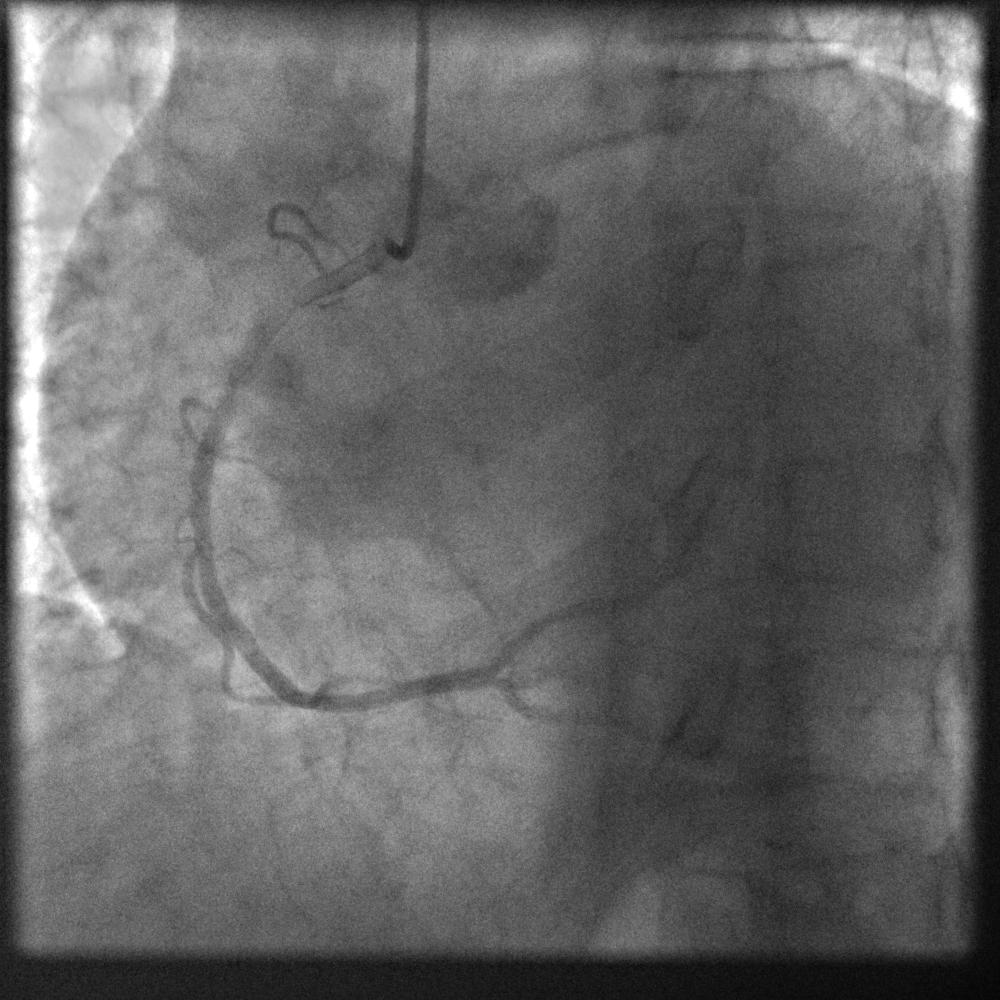Stenosis: (250, 293, 310, 328)
